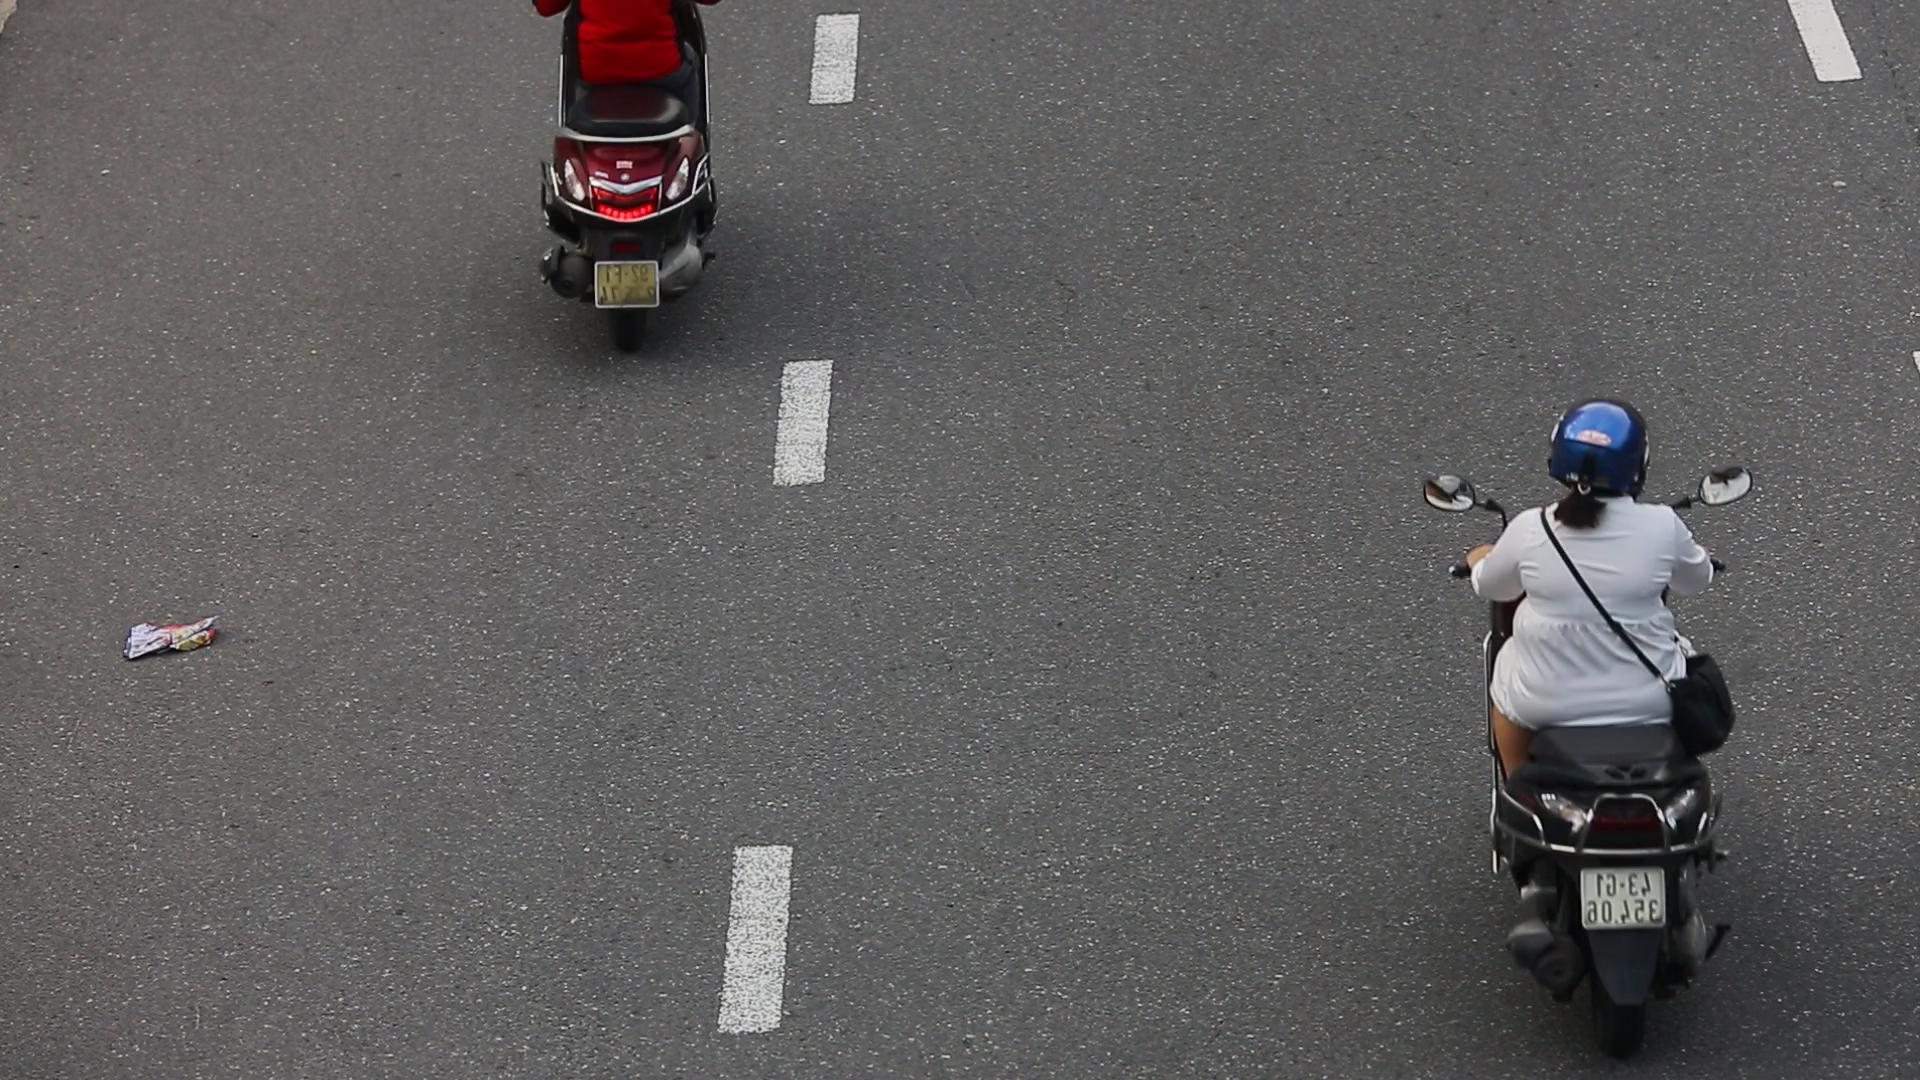motobike: (1449, 378, 1758, 1062)
